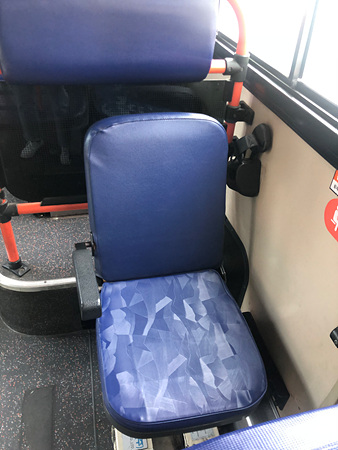seat: (82, 113, 265, 416)
